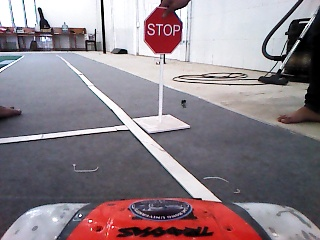stop: (141, 4, 185, 58)
